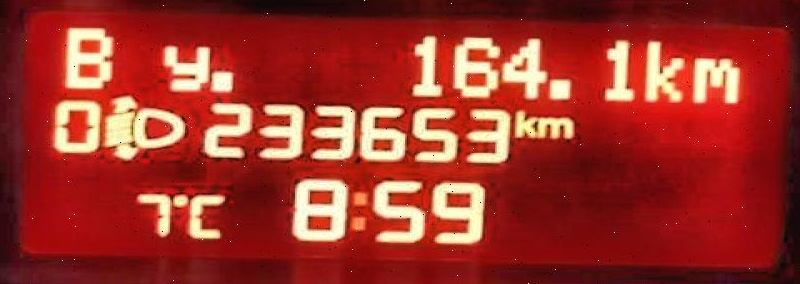-: (546, 75, 573, 101), (208, 68, 234, 94)
0: (48, 95, 99, 155)
1: (405, 29, 445, 98), (598, 34, 636, 104)
2: (198, 99, 249, 160)
3: (306, 102, 355, 162), (255, 99, 301, 161), (463, 105, 509, 165)
4: (498, 33, 544, 100)
5: (370, 175, 425, 244), (410, 103, 456, 164)
6: (450, 31, 500, 99), (358, 103, 406, 163)
7: (130, 189, 171, 240)
8: (288, 177, 346, 243)
9: (430, 178, 486, 245)
X: (60, 23, 116, 92), (643, 34, 684, 105), (688, 53, 739, 107), (158, 40, 208, 93), (188, 190, 223, 240), (349, 186, 368, 231), (511, 105, 536, 139), (538, 114, 573, 138)
